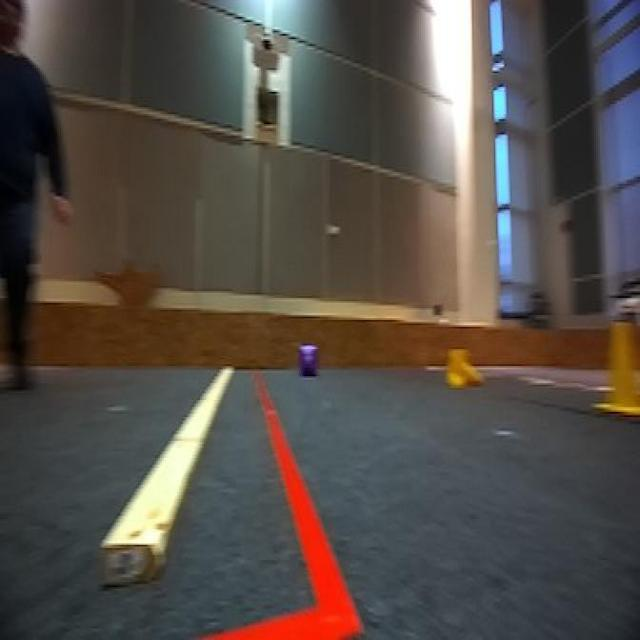frc_cone: (603, 312, 640, 417), (446, 346, 484, 388)
frc_cube: (299, 342, 319, 376)
